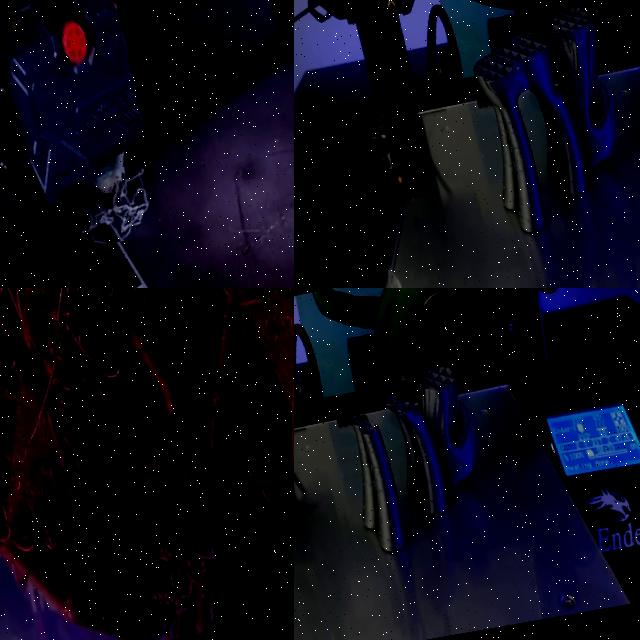spaghetti: (0, 288, 294, 640), (141, 512, 244, 640), (83, 156, 154, 245)
